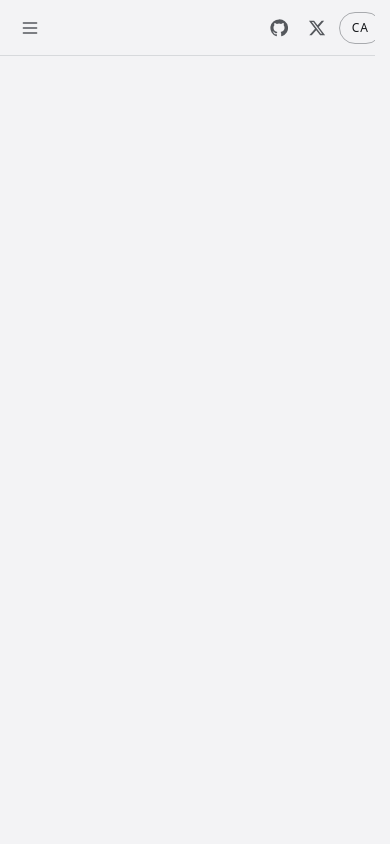
mobile drawer › opens the same navigation in a dialog and closes on navigation
Click the button named "Open menu": (30, 28) [8,6,52,50]
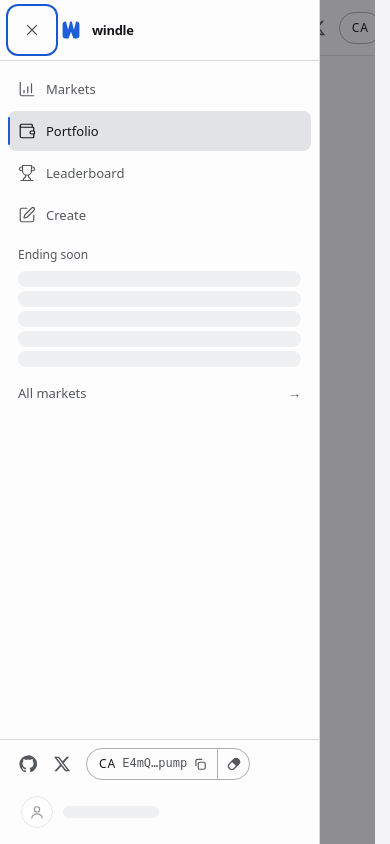
Now the navigation bar named "Main" is shown, box [18,246,301,402]
Click the link "Create": (52, 215) [18,206,86,224]
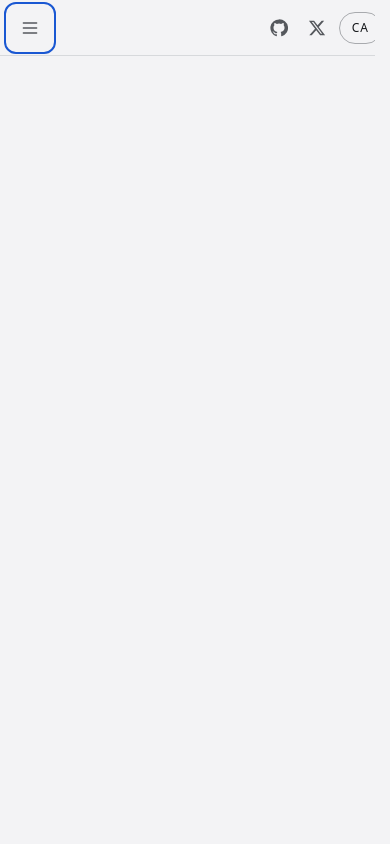
Now the dialog is gone
Now the text with test id "where" reads "/create", box [0,0,46,19]
